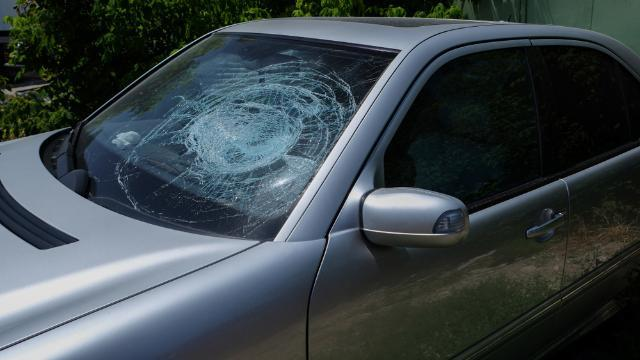glass shatter: (76, 35, 397, 241)
